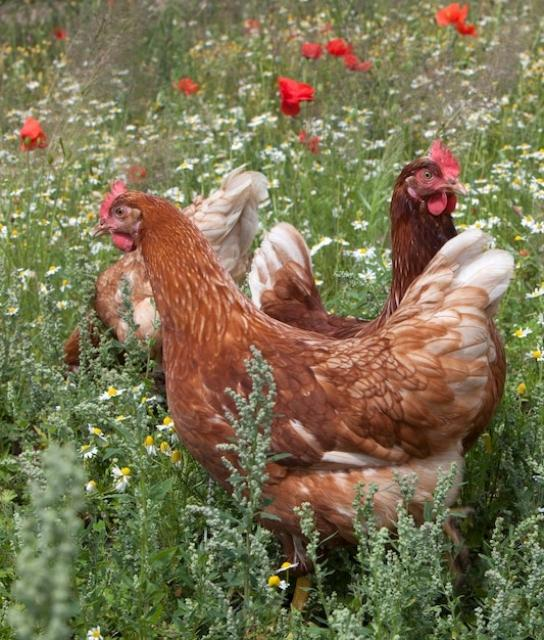Chicken: (93, 179, 520, 585), (246, 138, 468, 340), (61, 161, 275, 363)
